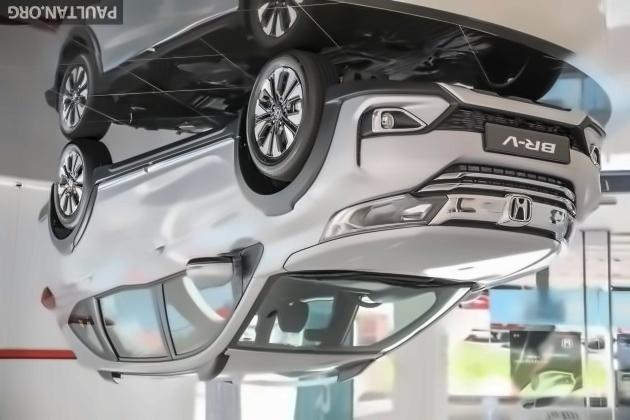Car hood: (282, 222, 571, 284)
Fender - -F-L-: (232, 96, 345, 300)
Fender - -R-L-: (36, 183, 101, 331)
Front bumper: (315, 74, 619, 213)
Headlight - -L-: (316, 188, 452, 255)
Passenger-s door - -F-L-: (141, 117, 259, 373)
Passenger-s door - -R-L-: (83, 144, 175, 382)
Rear light - -L-: (40, 283, 59, 315)
Side bumper - -L-: (79, 93, 254, 202)
Side mirror - -L-: (183, 255, 243, 293)
